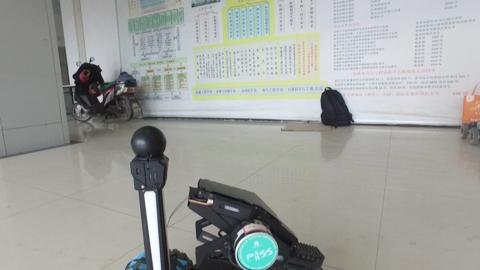bag: (318, 85, 356, 130)
chariot: (111, 124, 327, 270)
